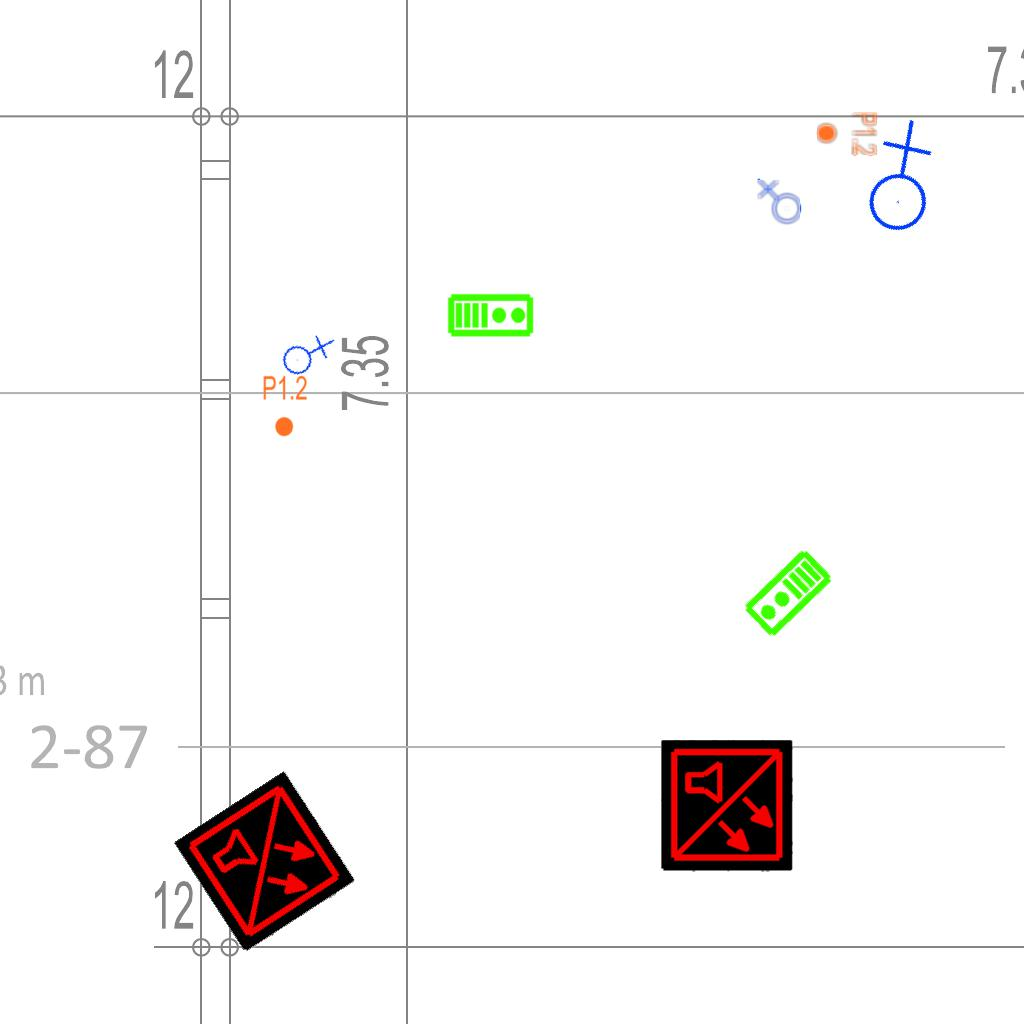Downlight_LED_Einbauleuchten_Flur: (815, 111, 879, 157), (262, 374, 308, 438)
Elektroanschluss_allgemein_230V_Geraeteanschlussdose_230V: (829, 113, 966, 249), (275, 324, 336, 383), (755, 178, 802, 227)
Gegensprechanlage_mit_Video: (740, 546, 837, 642), (447, 291, 535, 338)
OKW_Multisensormelder_(Kombination_optischer_Rauch-Kahlenmonoxid_Waerme-Melder): (173, 770, 357, 954), (661, 740, 793, 872)
